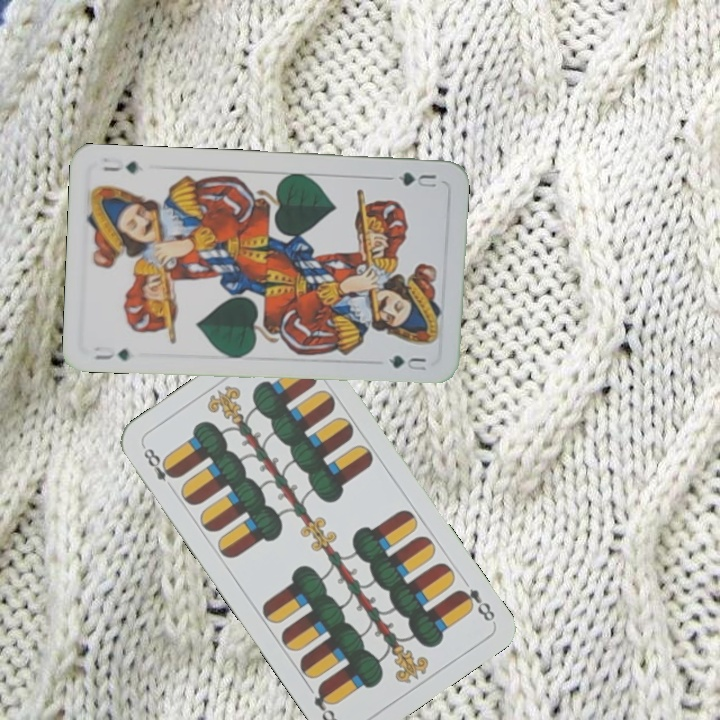E8: (139, 442, 180, 494), (453, 584, 498, 625)
GU: (394, 168, 439, 190), (90, 342, 133, 363)
